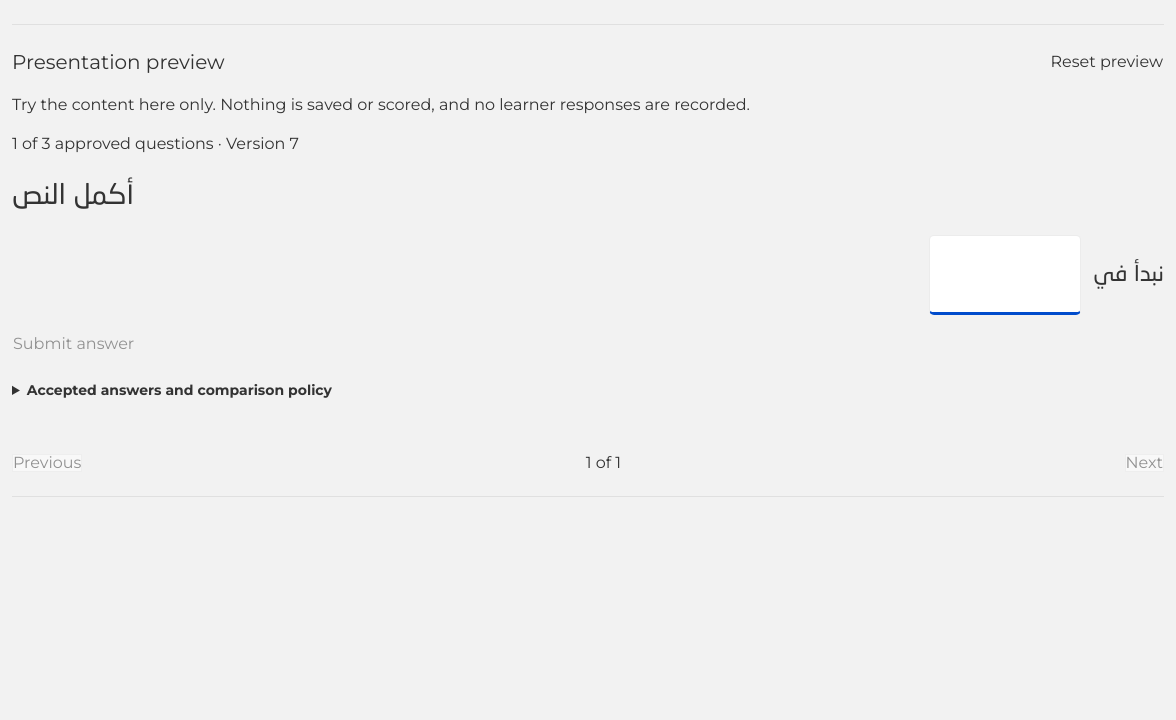
Test: uses the existing native grader for accepted alternatives and displays the reviewed comparison policy
Type "النهار" into the field named "Blank 1".
click(1005, 275); type("النهار")  # box [929,235,1081,315]
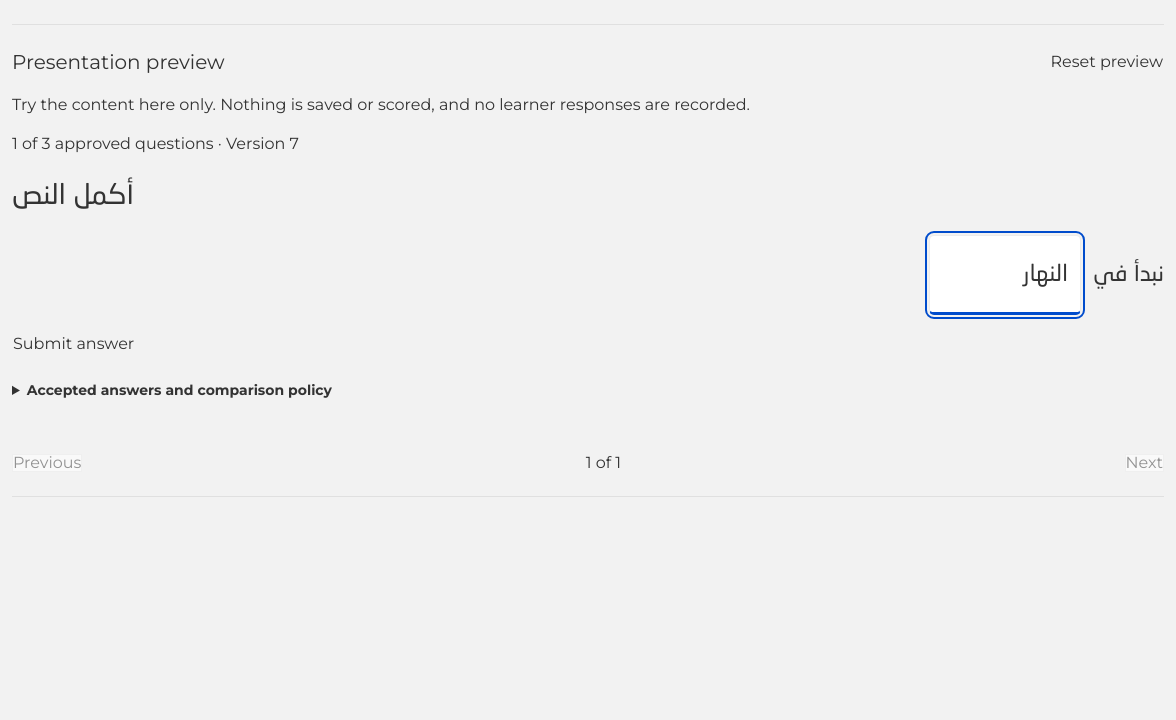
Click the button "Submit answer".
click(74, 344)  # box [12,335,135,353]
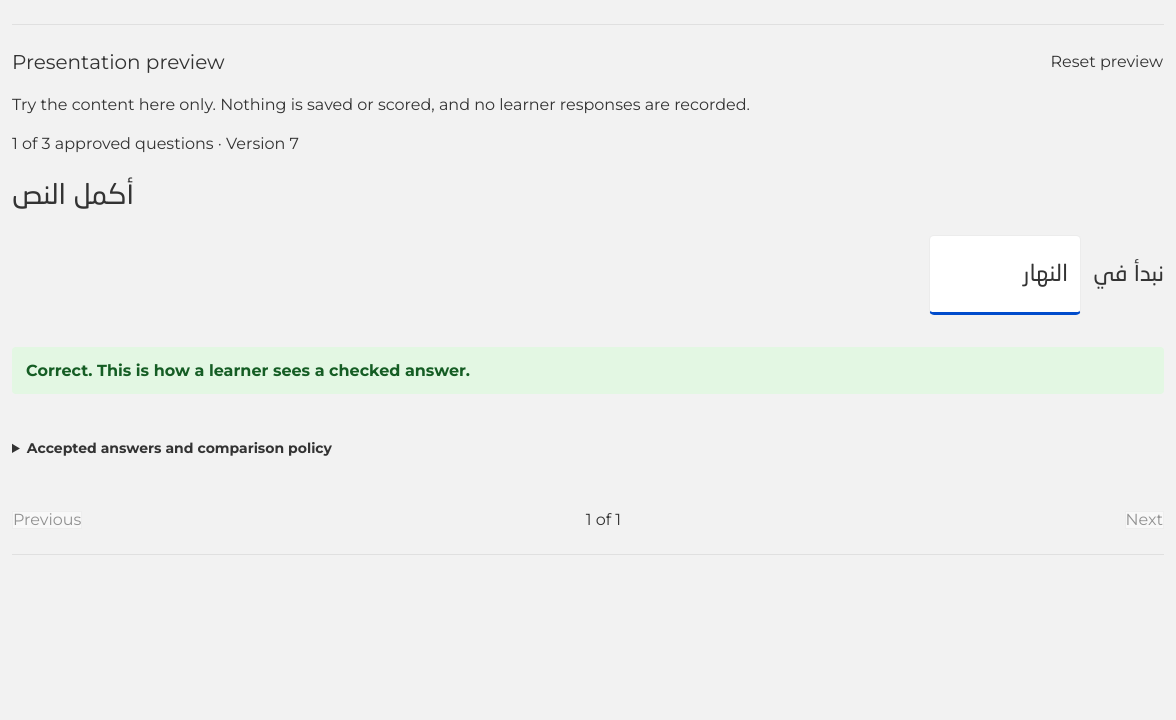
Expected: the text "Correct. This is how a learner sees a checked answer." is shown, [12,347,1164,394]
Click the heading "Accepted answers and comparison policy".
click(179, 448)  # box [27,438,332,456]
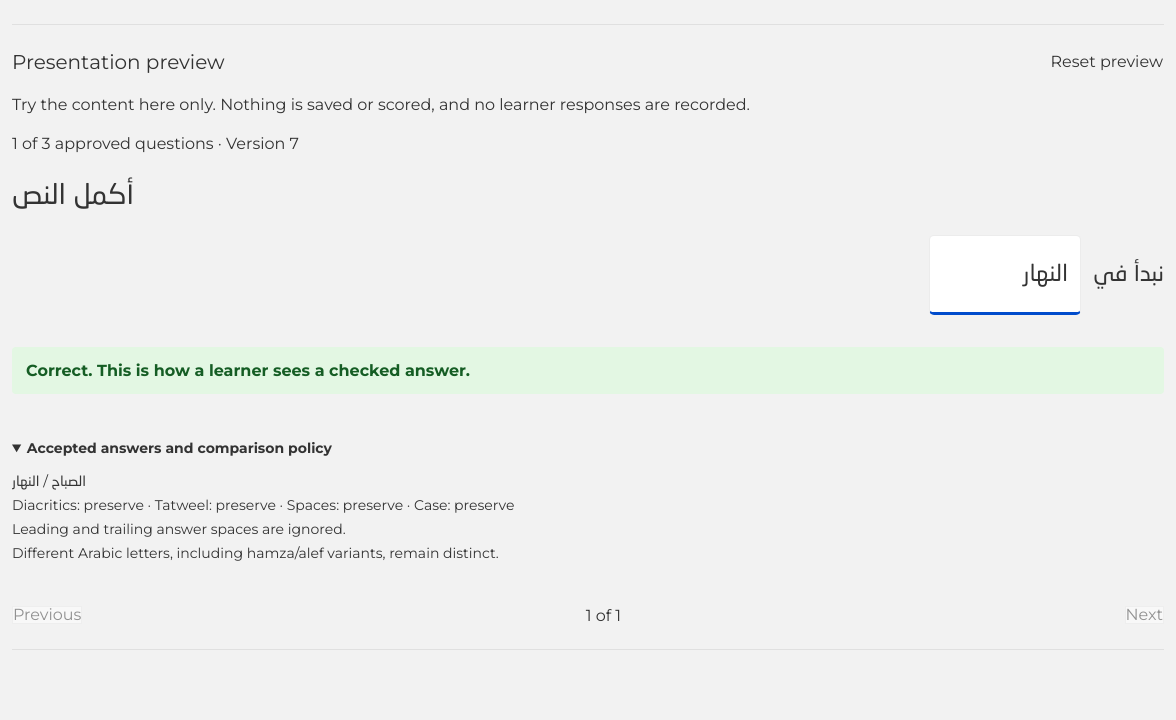
Expected: the list item "الصباح / النهار" is shown, [12,472,86,490]
Expected: the text "Diacritics: preserve" is shown, [12,496,514,514]
